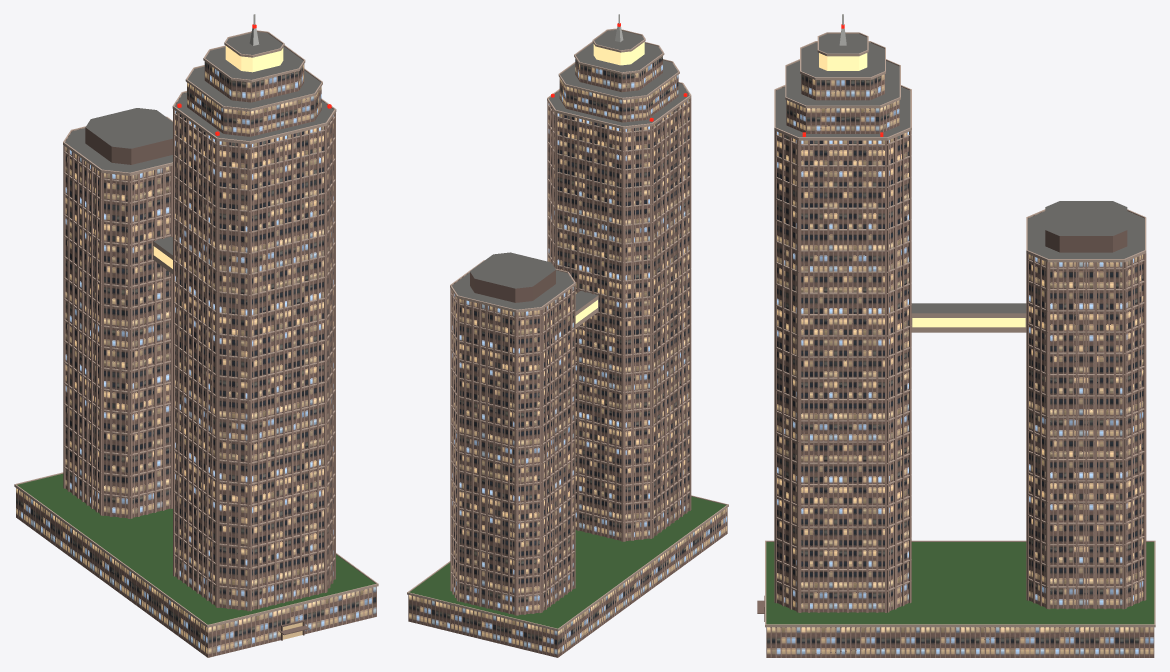
File: st_lukes_tower.glb
3 renders of one model, left to right at view 1: azimuth 30°, elevation 25°; view 2: azimuth 150°, elevation 25°; view 3: azimuth 270°, elevation 25°, orthographic. The views are drawn at different scales.
Parts seen in each view (by area): view 1: st_lukes_tower; view 2: st_lukes_tower; view 3: st_lukes_tower.
Part boxes in pixels (left/top/right/bottom): st_lukes_tower: left=14, top=14, right=378, bottom=657; st_lukes_tower: left=407, top=14, right=728, bottom=657; st_lukes_tower: left=757, top=14, right=1155, bottom=657.
Bounding box in the file's own units: 66.5 × 221 × 132.
2 materials, 2 textured.
